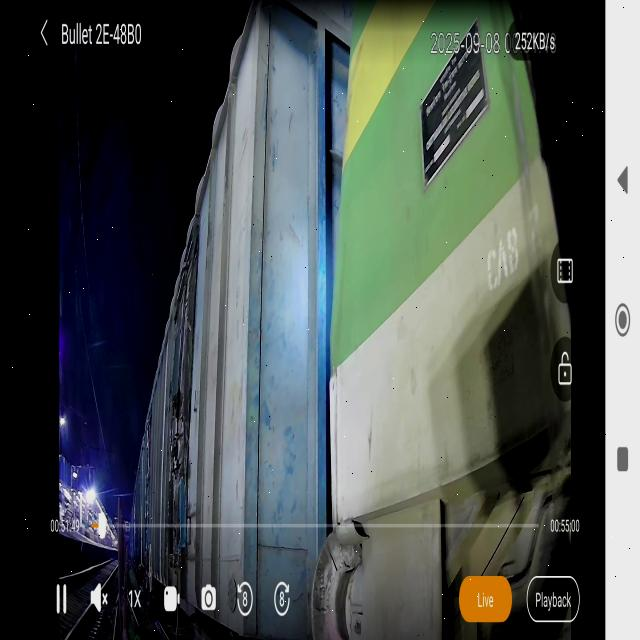joint: (207, 0, 399, 640)
